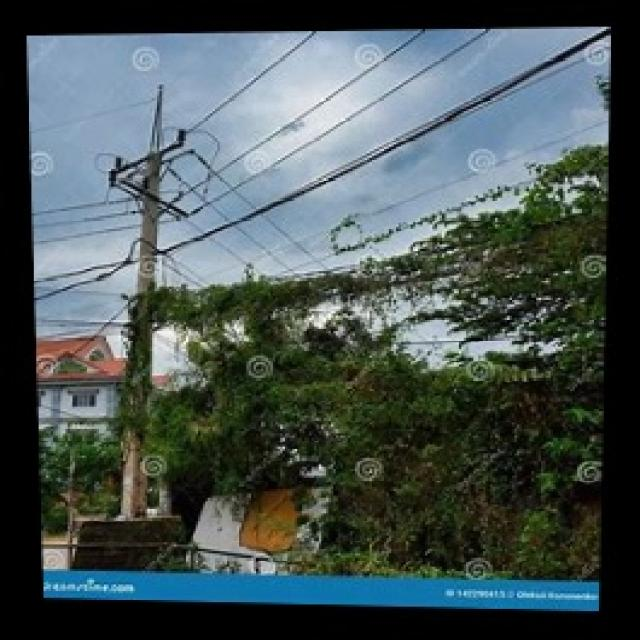critical vegetation: (140, 251, 606, 379)
